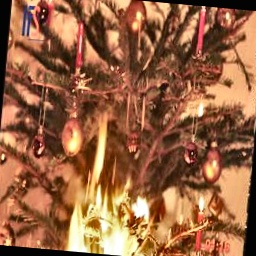fire: (62, 120, 154, 256)
